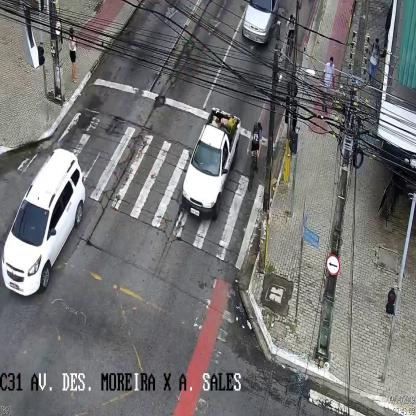bicycle: (246, 121, 262, 192), (286, 13, 296, 66)
car: (1, 148, 86, 295), (182, 107, 240, 218), (241, 0, 277, 48)
person: (322, 56, 336, 113), (67, 28, 78, 85), (369, 38, 379, 90)
